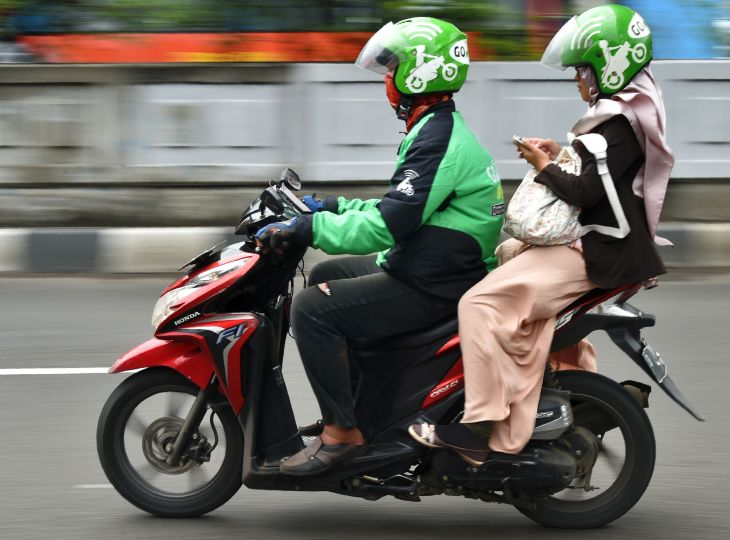dieu khien xe may: (150, 16, 469, 397)
su dung dien thoai: (510, 4, 654, 170)
